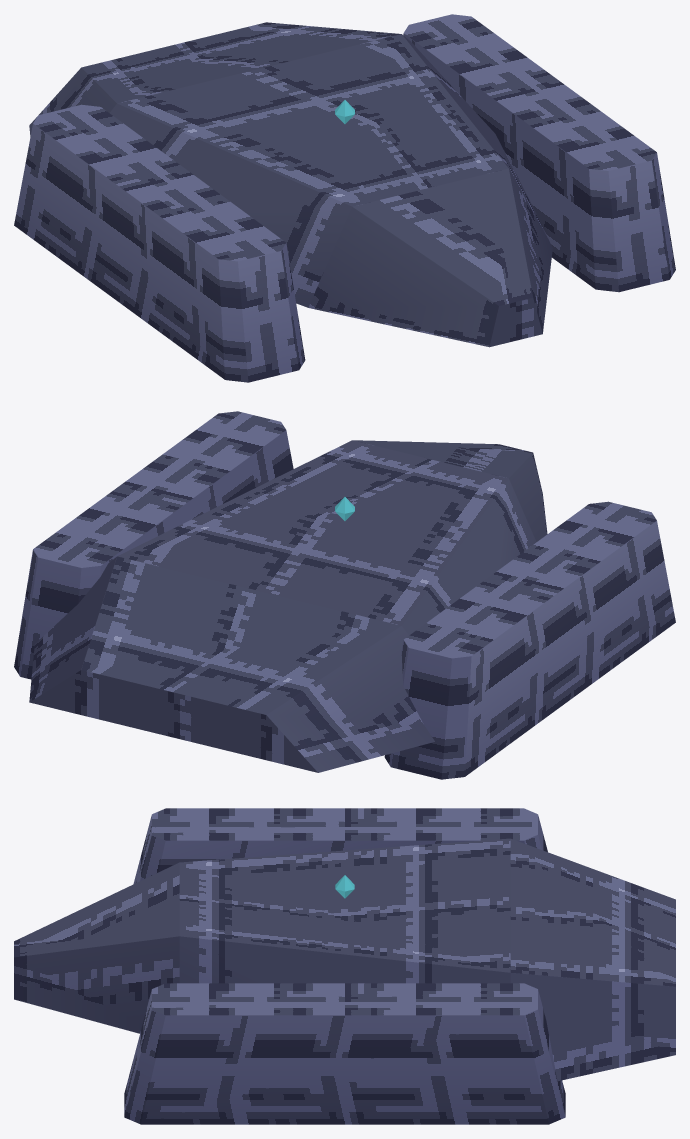
File: cysky.cargo.glb
3 renders of one model, top to bottom at view 1: azimuth 30°, elevation 25°; view 2: azimuth 150°, elevation 25°; view 3: azimuth 270°, elevation 25°, orthographic. The views are drawn at different scales.
Visible parts, largest first — view 1: kit_body; view 2: kit_body; view 3: kit_body.
Part boxes in pixels (x1,y1,x2,y2): kit_body: (14,14,675,382); kit_body: (14,411,675,779); kit_body: (14,808,675,1124).
Bounding box in the file's own units: 3.65 × 1.15 × 4.8.
Materials: 3 (3 with a texture image).
